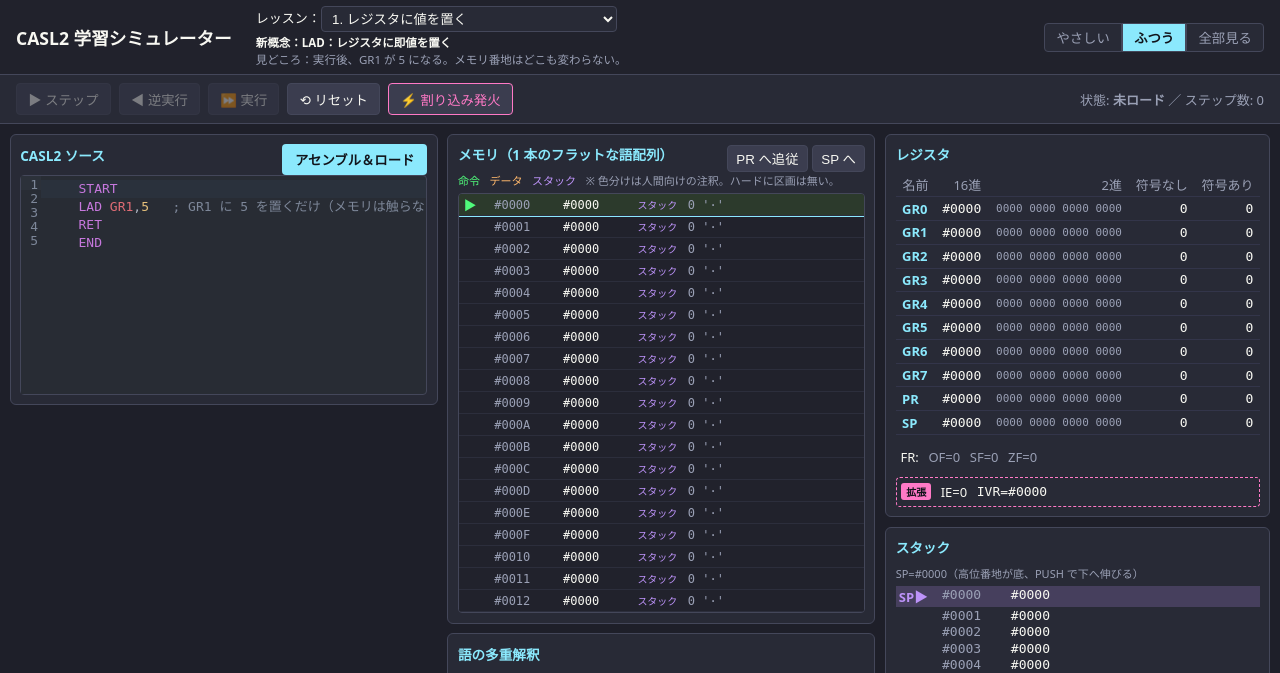
Test: App 統合 › 学習モード「全部見る」で C 対応ペインが現れ、読み込める
The width and height of the screenshot is (1280, 673).
Click the button "全部見る": (1225, 37) [1186, 22, 1264, 52]
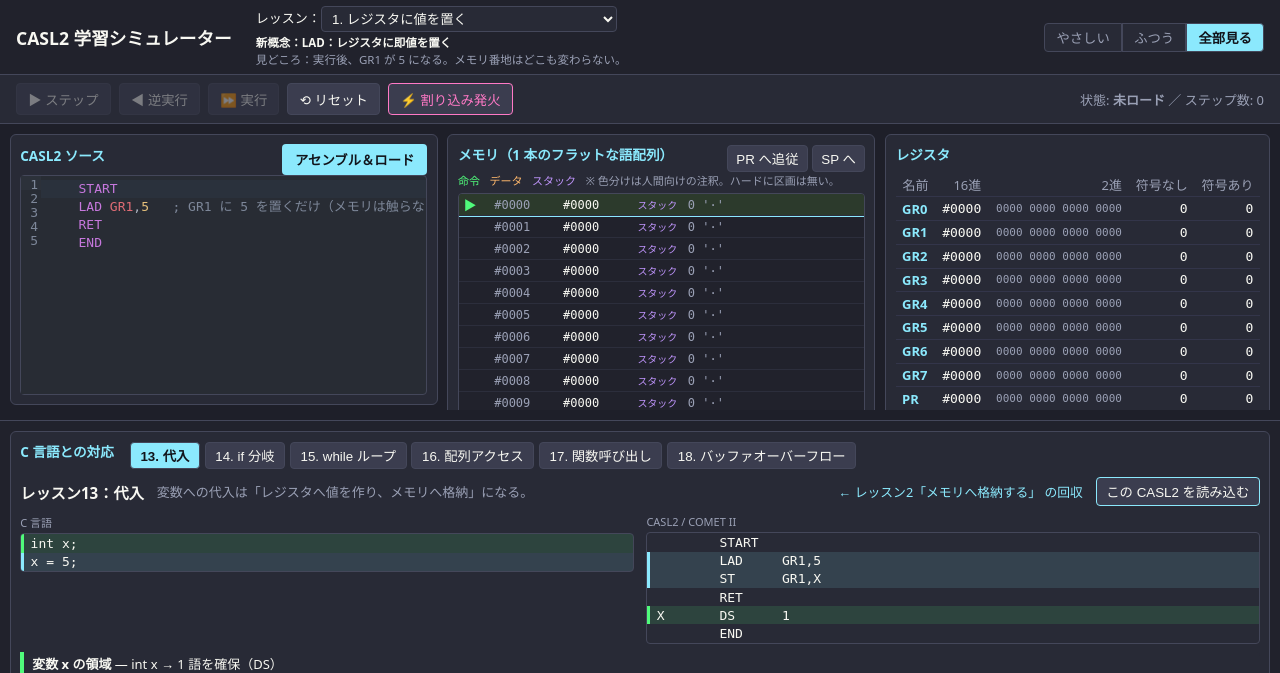
Expected: the heading "C 言語との対応" is shown, [20, 441, 114, 461]
Click the button "この CASL2 を読み込む": (1178, 492) [1096, 477, 1260, 506]
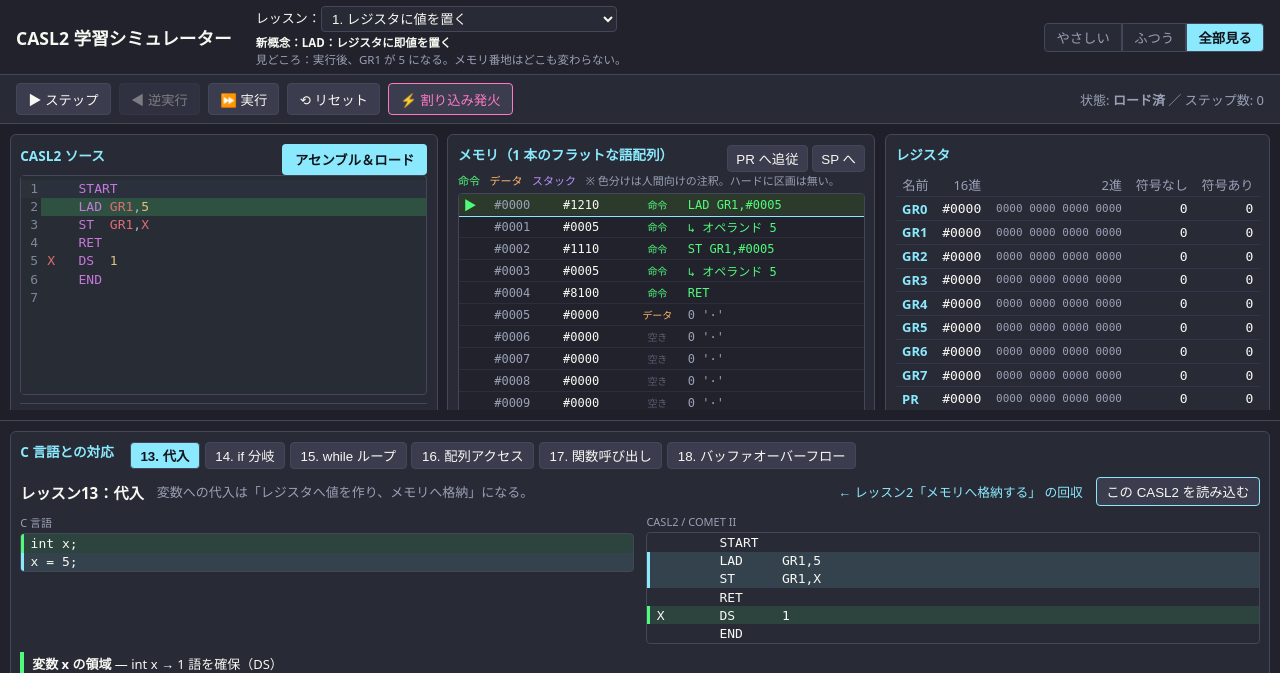
Expected: the text "ロード済" is shown, [1113, 91, 1165, 109]
